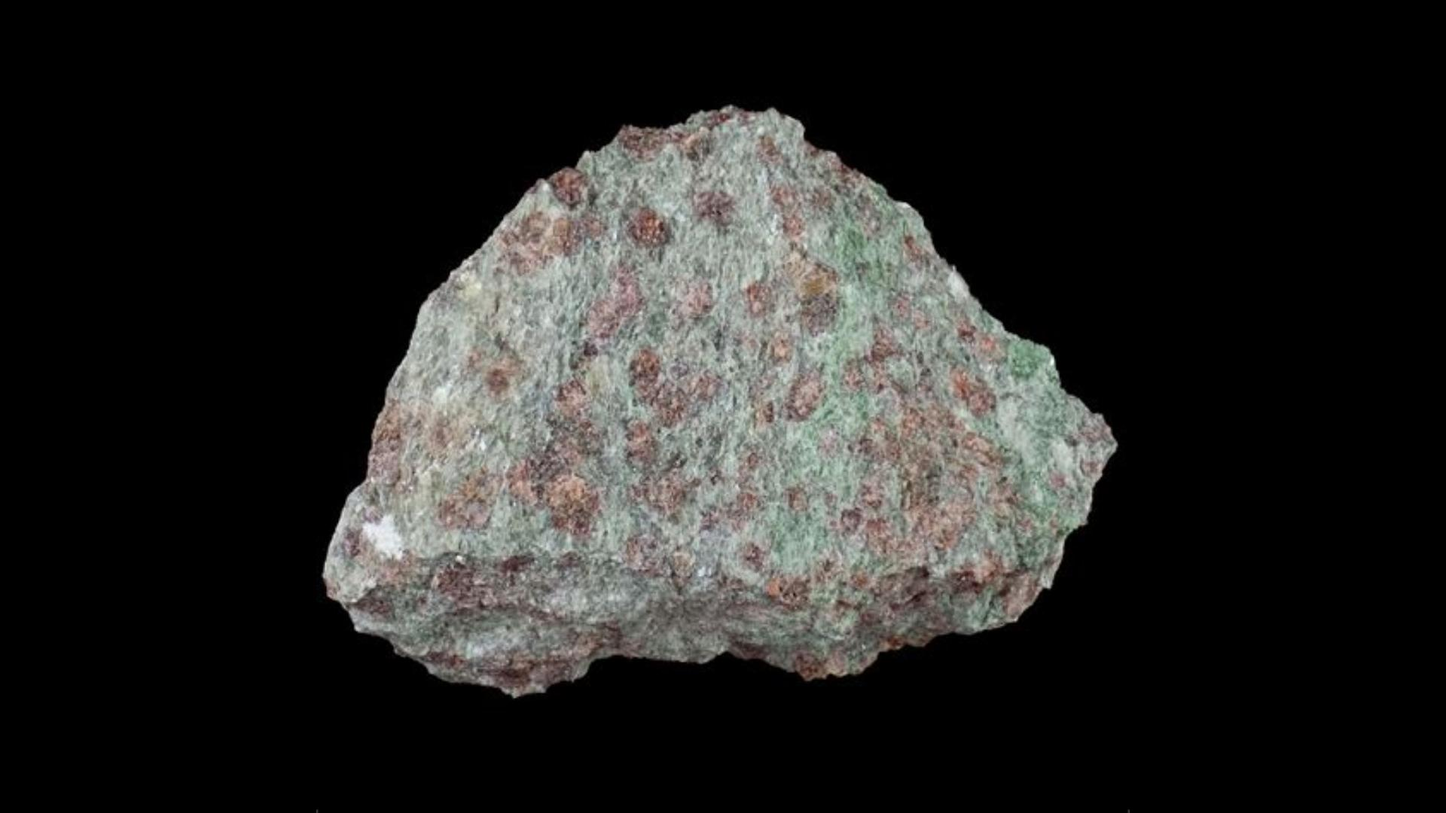rock: (325, 108, 1113, 691)
